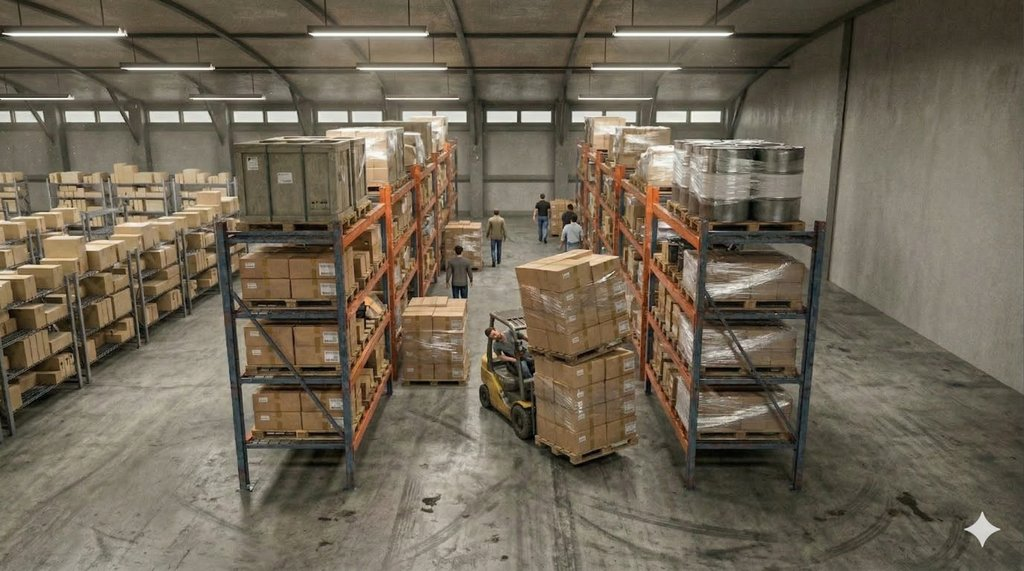forklift: (482, 251, 641, 469)
obstacle: (386, 279, 468, 400)
person: (434, 242, 476, 310), (481, 322, 526, 376), (482, 203, 508, 275), (530, 189, 553, 245), (561, 214, 583, 257), (557, 194, 576, 233)
